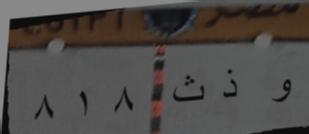1: (68, 84, 95, 127)
8: (30, 86, 57, 128), (110, 82, 136, 118)
thaa: (167, 70, 205, 110)
waw: (264, 76, 297, 117)
zaal: (215, 66, 245, 104)
